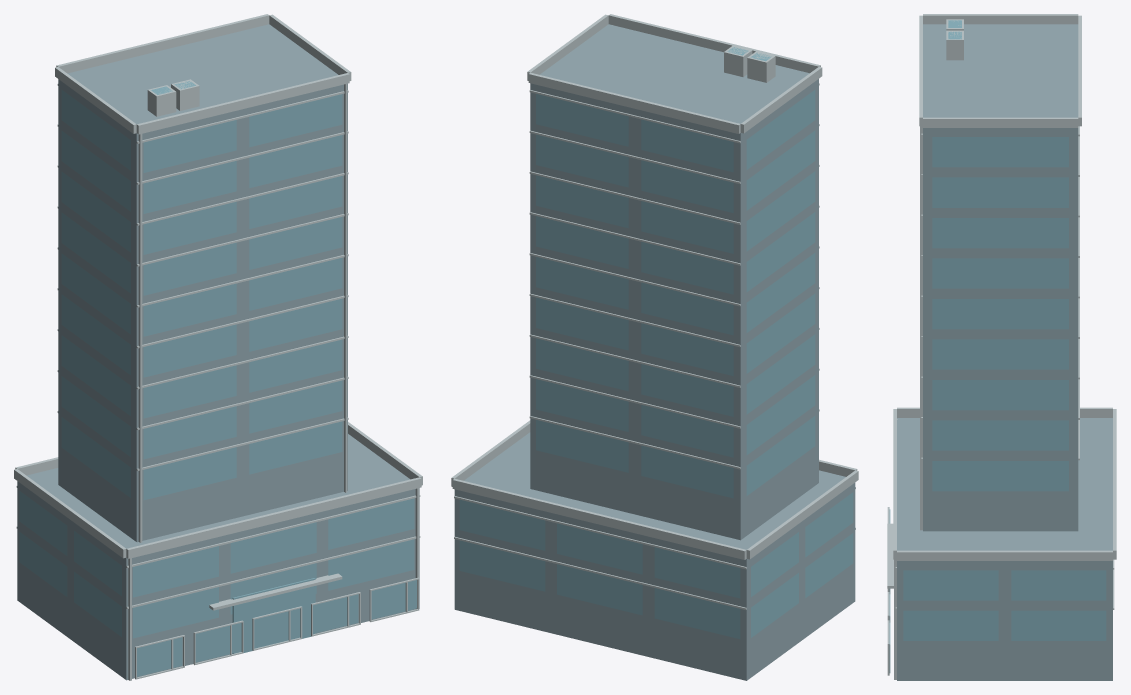
Rendered from commercial_3x2_b.glb.
The picture shows the model from 3 angles, left to right: view 1: azimuth 30°, elevation 25°; view 2: azimuth 150°, elevation 25°; view 3: azimuth 270°, elevation 25°; orthographic projection.
Visible parts, largest first — view 1: commercial_3x2_b_0; view 2: commercial_3x2_b_0; view 3: commercial_3x2_b_0.
Part boxes in pixels (x1,y1,x2,y2): commercial_3x2_b_0: (14, 14, 422, 680); commercial_3x2_b_0: (451, 14, 858, 680); commercial_3x2_b_0: (887, 14, 1116, 680).
Bounding box in the file's own units: 23 × 40.5 × 15.4.
